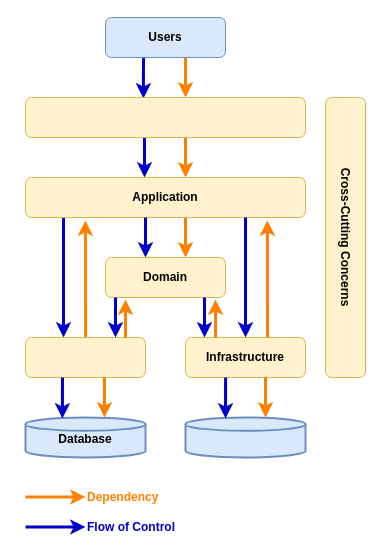
Image size: 383x555. Some labels were removed from this diagram. Each missing label, with the box of its shape:
Persistence: (24, 336, 146, 378)
Presentation: (24, 96, 306, 138)
Storage, OS, ...: (184, 416, 306, 458)
